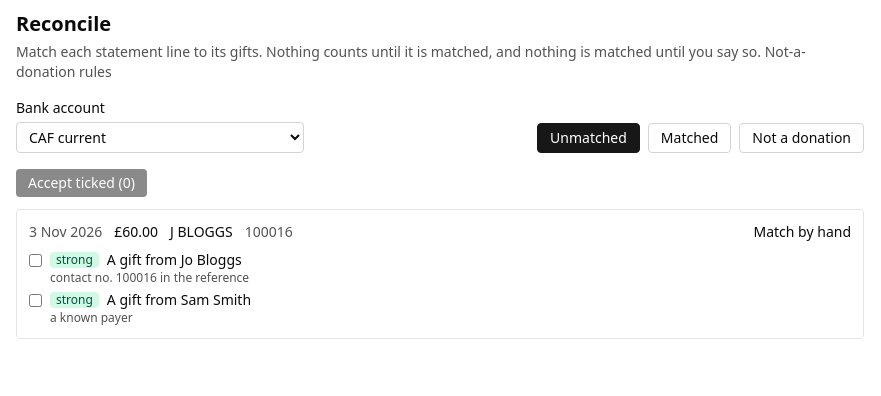
Scenario: a tick follows its suggestion through a refetch, and goes when it does
This screenshot has width=881, height=396.
Click the checkbox labelled "strong A gift from Sam Smith a known payer": (36, 300) x1=29 y1=294 x2=42 y2=307
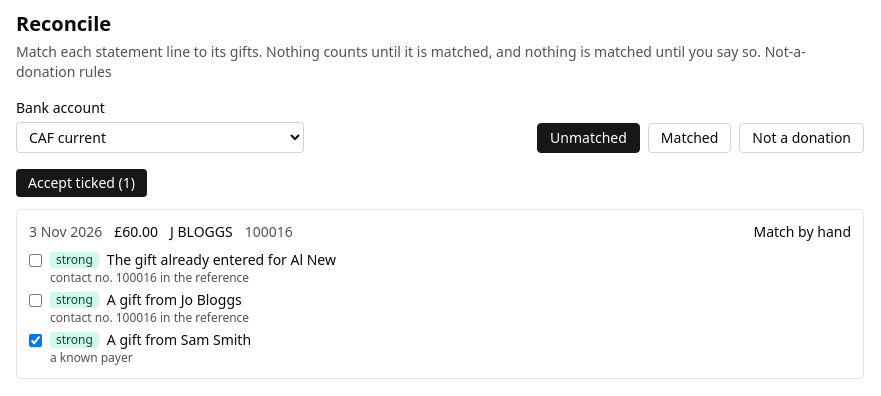
Expected: the checkbox labelled "strong A gift from Sam Smith a known payer" is checked, x1=29 y1=334 x2=42 y2=347
Click the button "Accept ticked (1)": (82, 183) x1=16 y1=169 x2=147 y2=197
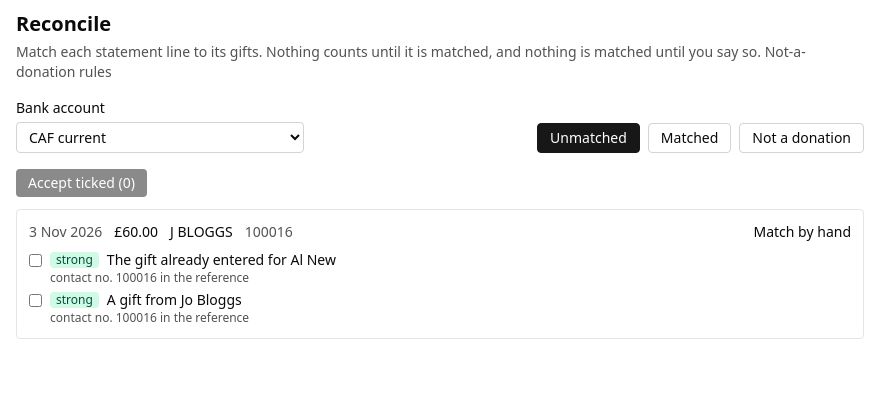
Expected: the button "Accept ticked (0)" is disabled, x1=16 y1=169 x2=147 y2=197
